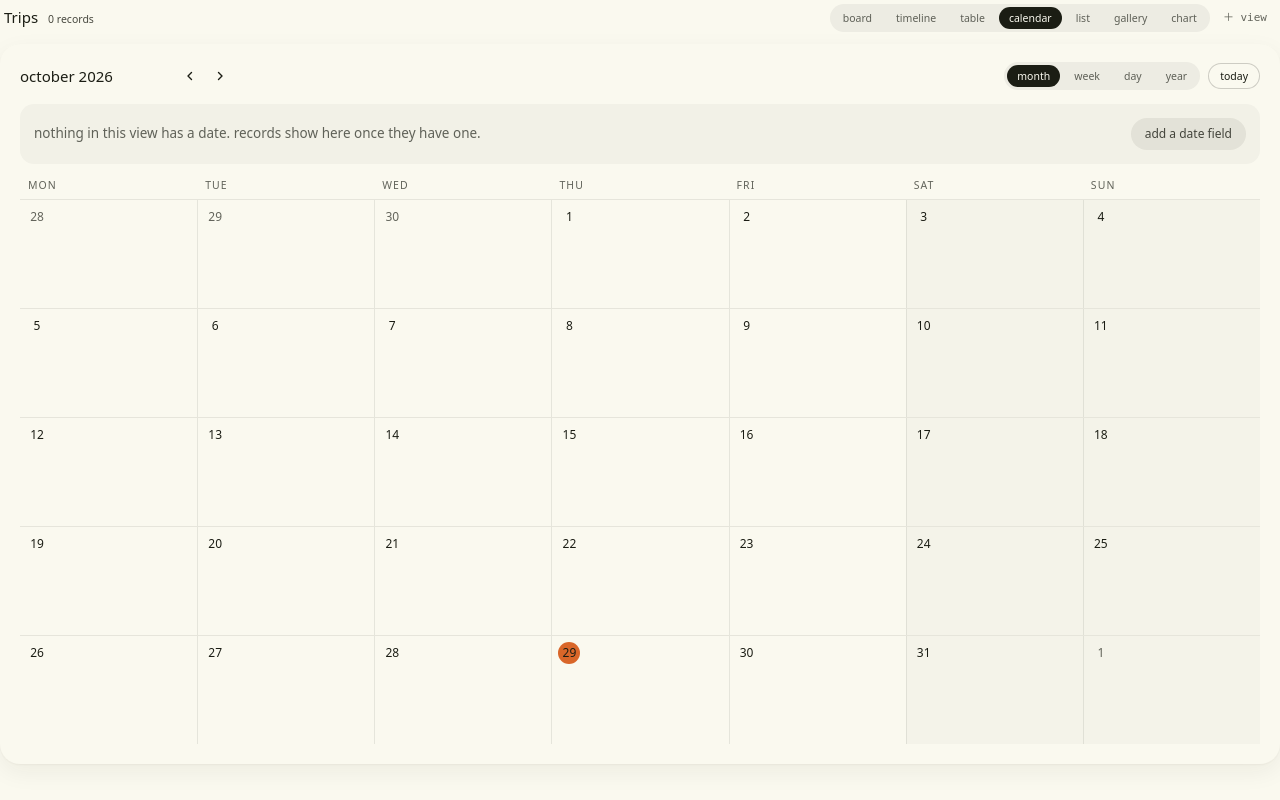
Scenario: ViewView — the "add a date field" remedy reaches the page (KAN-292) › calendar: clicking the remedy mints a date field onto the schema, and the button goes on rerender
Click the button "add a date field" at (1188, 134), box [1131,118,1246,150]
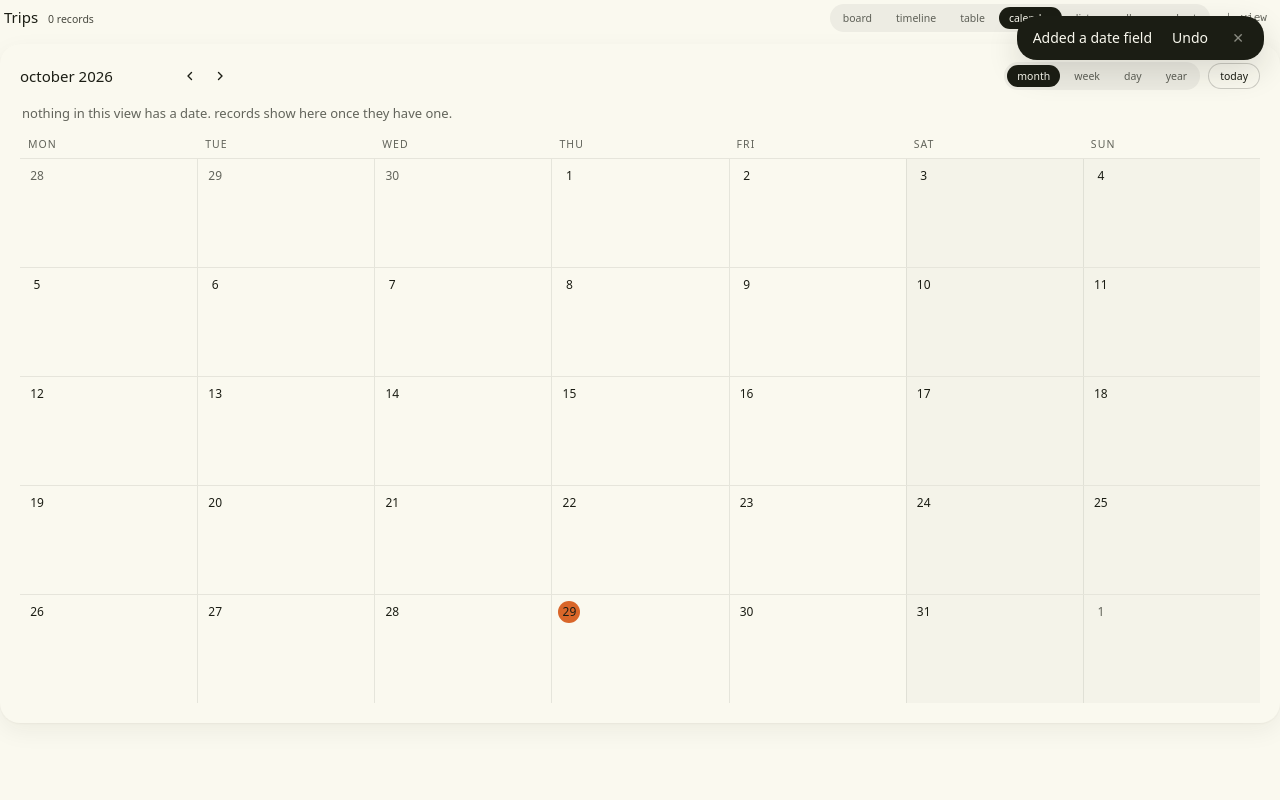
Check: the button "add a date field" is gone
